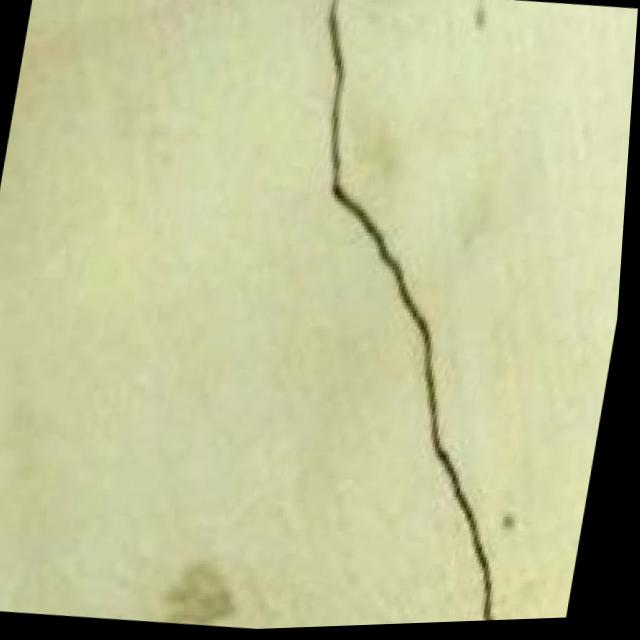Crack: (207, 0, 618, 633)
